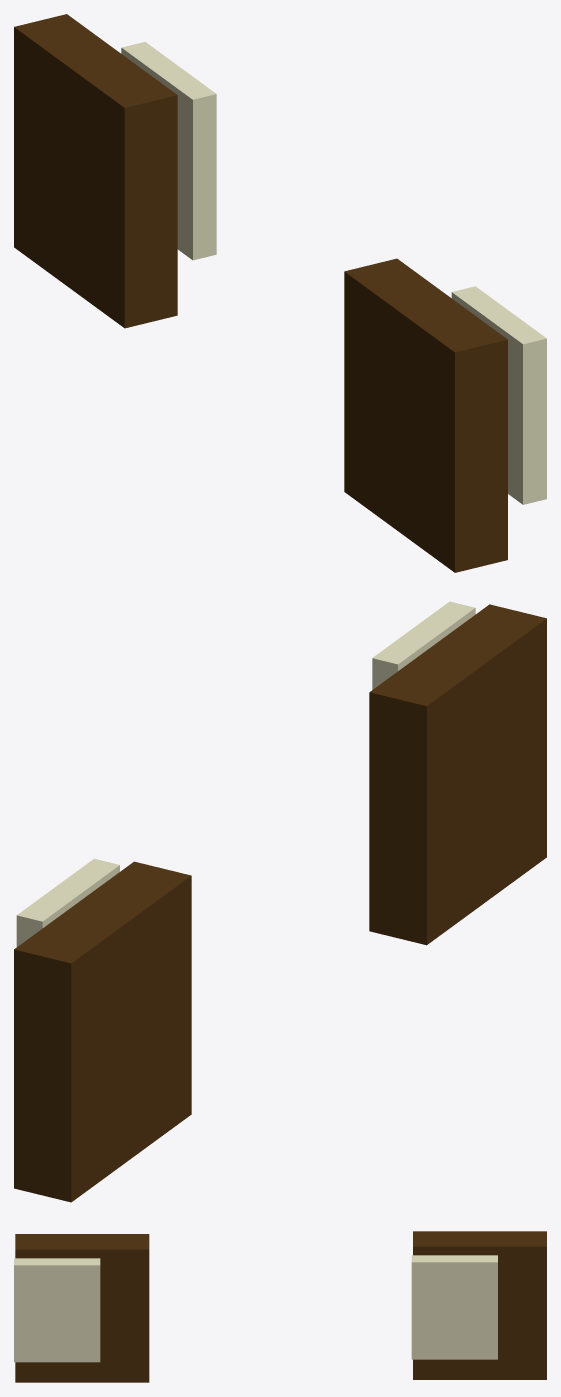
The model's file is RogerEyes.glb.
The picture shows the model from 3 angles, top to bottom: view 1: azimuth 30°, elevation 25°; view 2: azimuth 150°, elevation 25°; view 3: azimuth 270°, elevation 25°; orthographic projection. The views are drawn at different scales.
Parts seen in each view (by area): view 1: RogerEyes; view 2: RogerEyes; view 3: RogerEyes.
Boxes of the visible parts, box(x1,y1,x2,y2) form: RogerEyes: box(14, 14, 546, 572); RogerEyes: box(14, 601, 546, 1202); RogerEyes: box(14, 1231, 546, 1382).
Size of the model in its own units: 0.3369 by 0.7846 by 2.79.
